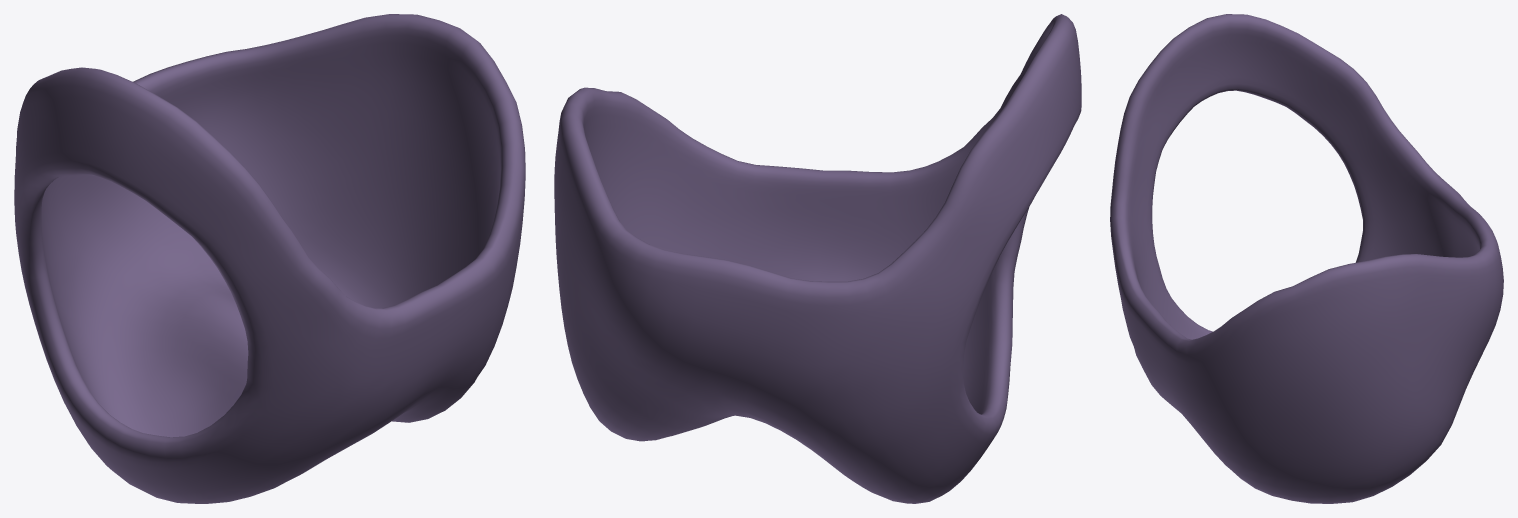
The model's file is TL5_Frame_Classic.001 3.glb.
3 views of the same model, side by side, from view 1: azimuth 30°, elevation 25°; view 2: azimuth 150°, elevation 25°; view 3: azimuth 270°, elevation 25° (orthographic). The views are drawn at different scales.
Visible parts, largest first — view 1: TL5_Frame_Classic.001; view 2: TL5_Frame_Classic.001; view 3: TL5_Frame_Classic.001.
Boxes of the visible parts, <box> form: TL5_Frame_Classic.001: <box>14,14,525,503</box>; TL5_Frame_Classic.001: <box>554,14,1081,503</box>; TL5_Frame_Classic.001: <box>1110,14,1503,503</box>.
Bounding box in the file's own units: 0.8927 × 0.8629 × 0.8266.
